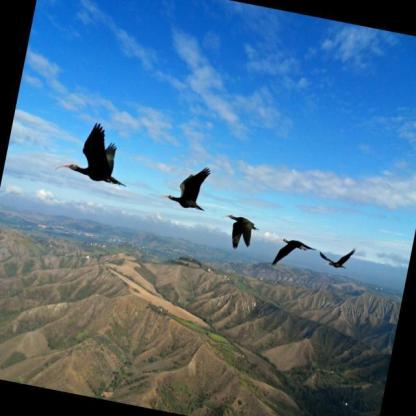bird: (52, 114, 138, 192), (155, 156, 215, 215), (214, 210, 264, 254), (270, 233, 319, 276), (317, 240, 358, 272)
